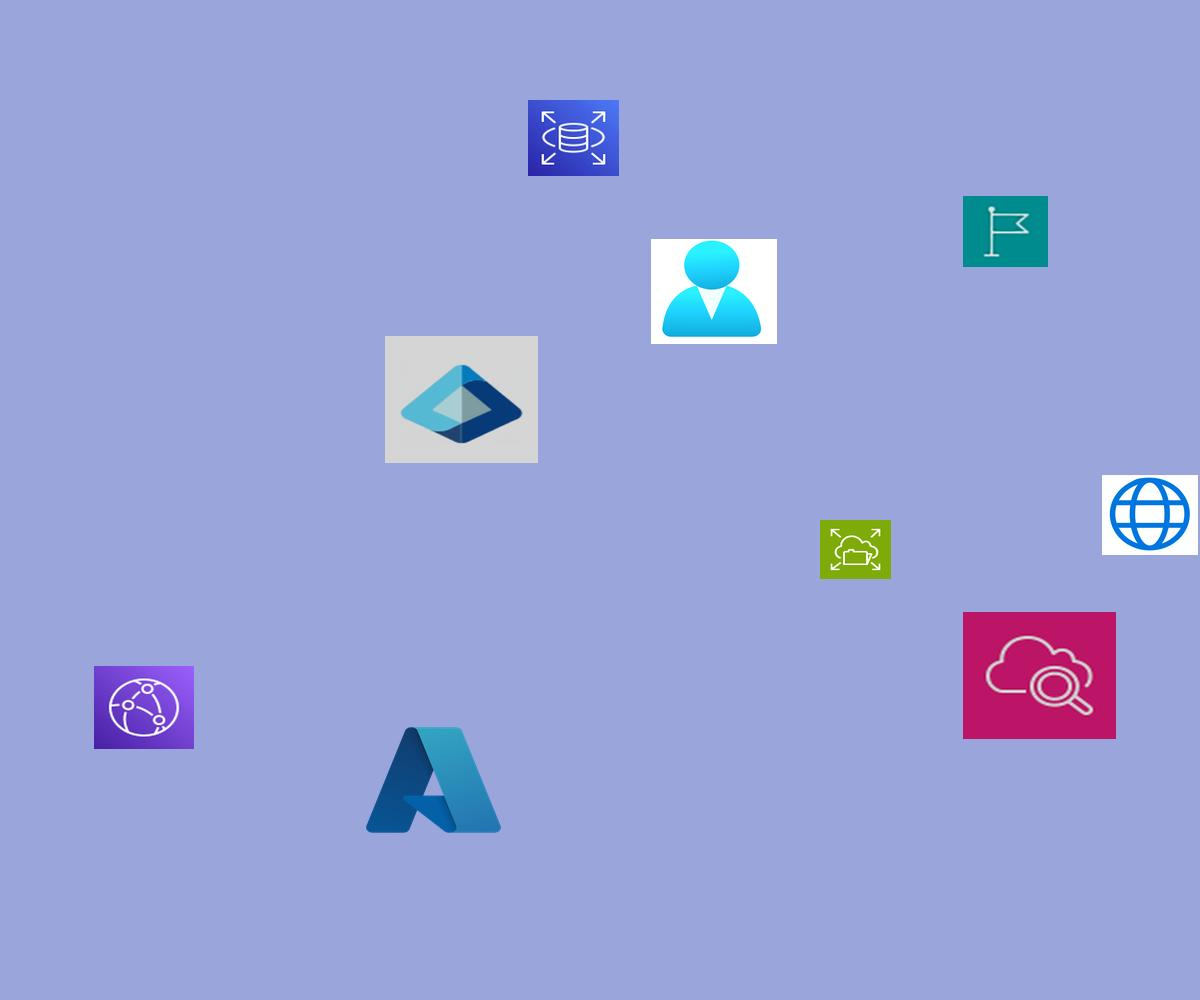AWS-CloudFront: (94, 666, 194, 749)
AWS-CloudWatch: (963, 612, 1116, 739)
AWS-EFS: (820, 520, 891, 579)
AWS-RDS: (528, 100, 619, 176)
AWS-Region: (963, 196, 1048, 267)
Azure_http: (1102, 475, 1198, 555)
Azure_microsoft_entra: (385, 336, 538, 463)
Azure_services: (360, 719, 507, 841)
Azure_users: (651, 239, 777, 344)
